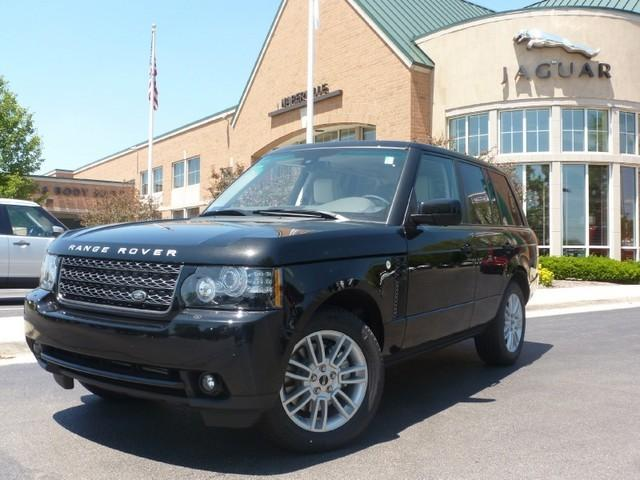range rover: (66, 239, 184, 268)
